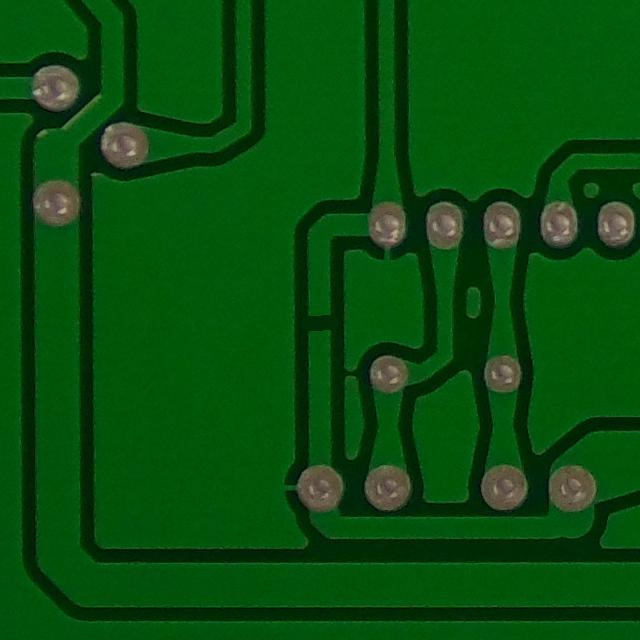open_circuit: (301, 297, 340, 344)
